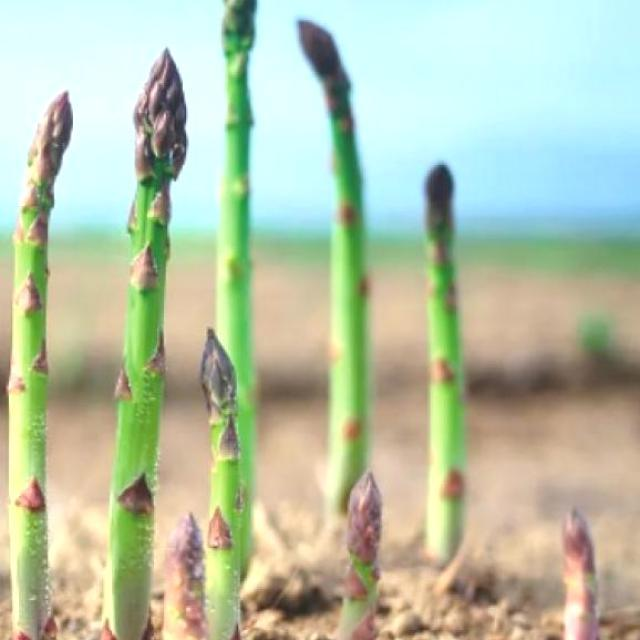aspargus: (109, 54, 185, 640), (0, 93, 73, 638), (197, 319, 249, 638)
